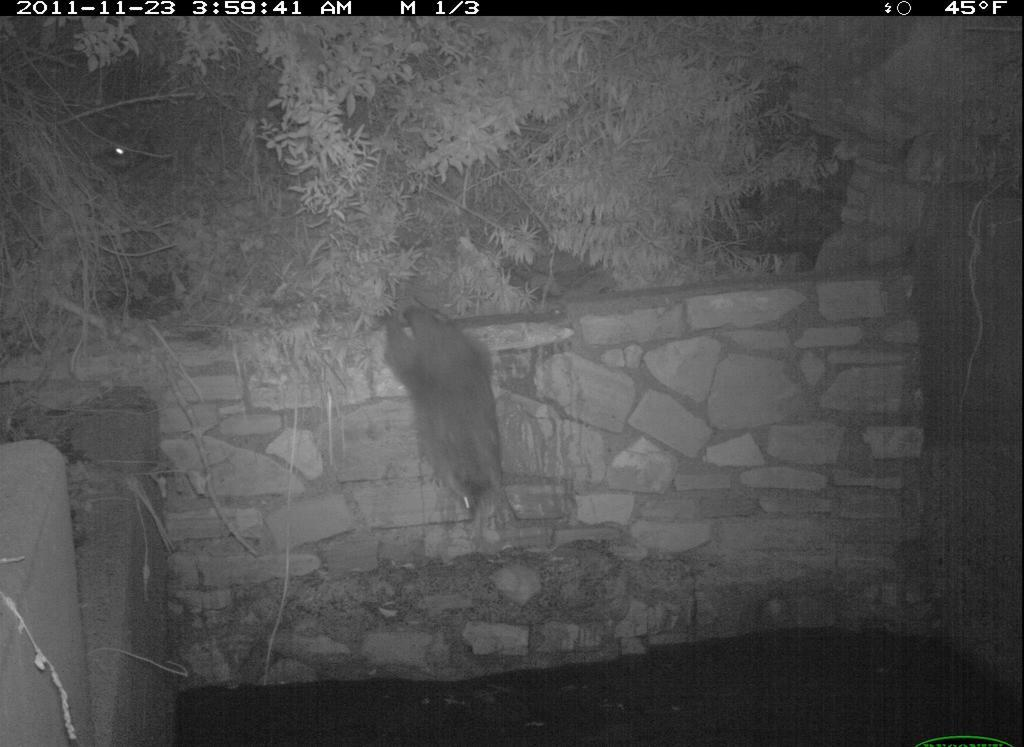raccoon: (368, 282, 528, 532)
